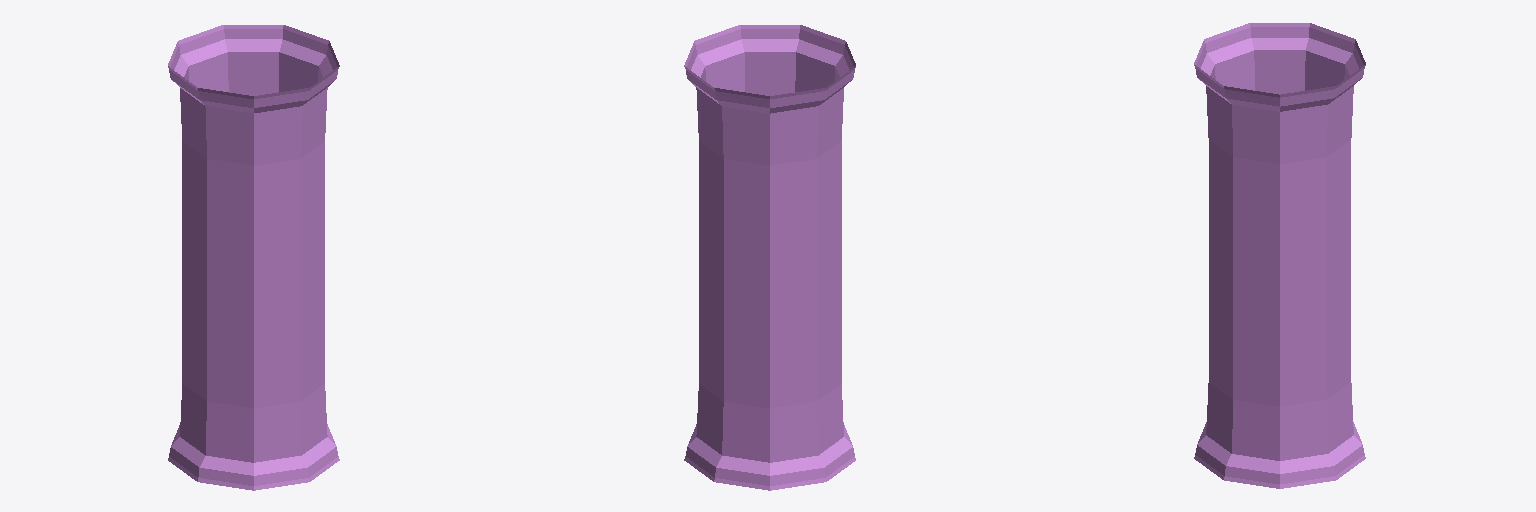
File: column.obj
3 renders of one model, left to right at view 1: azimuth 30°, elevation 25°; view 2: azimuth 150°, elevation 25°; view 3: azimuth 270°, elevation 25°, orthographic.
Parts seen in each view (by area): view 1: Cylinder009; view 2: Cylinder009; view 3: Cylinder009.
Part boxes in pixels (x1,y1,x2,y2): Cylinder009: (168,25,339,490); Cylinder009: (684,25,855,490); Cylinder009: (1194,23,1365,488).
Bounding box in the file's own units: 23.4 × 60 × 23.76.